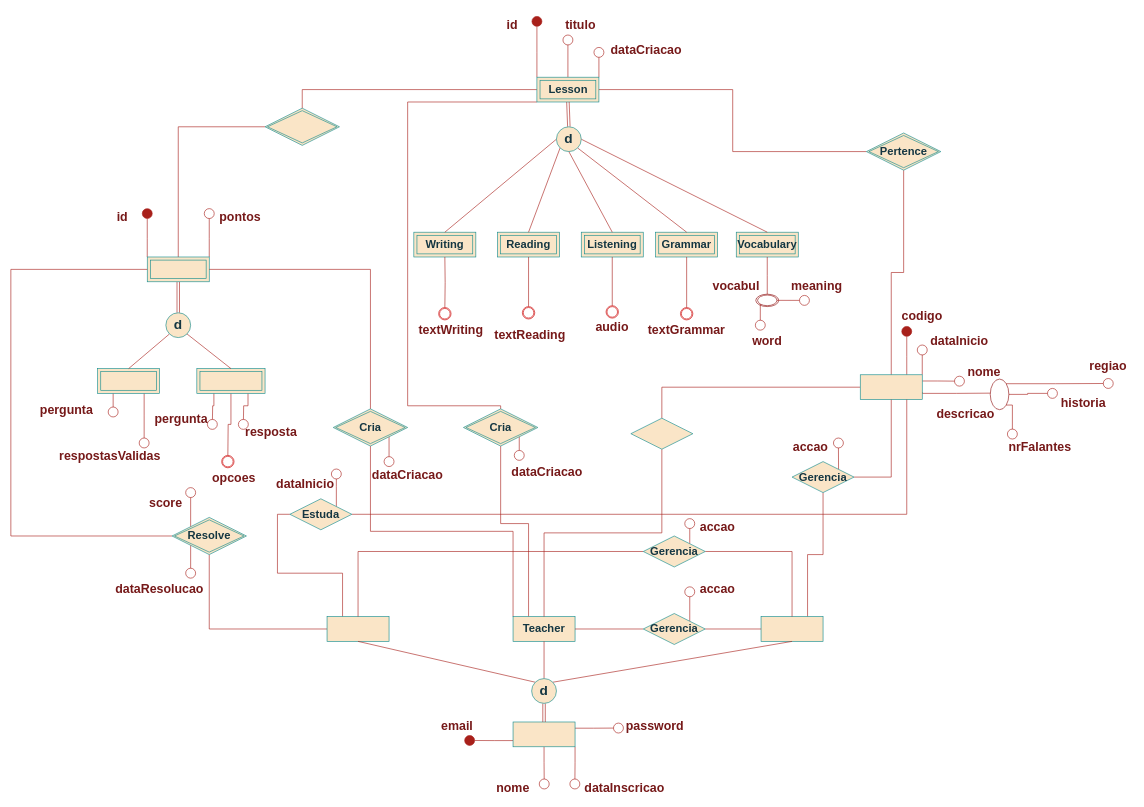
Image size: 1144x807. Some labels were removed from this diagram. The centre of each missing label's shape, as x and y in pixels:
"Admin" belongs at point (791, 628).
"Aluno" belongs at point (357, 628).
"Exercicio" belongs at point (178, 269).
"Language" belongs at point (891, 387).
"Leciona" belongs at point (661, 433).
"Multichoice" belongs at point (230, 380).
"PAbertas" belongs at point (128, 380).
"Tem" belongs at point (301, 126).
"User" belongs at point (543, 734).
